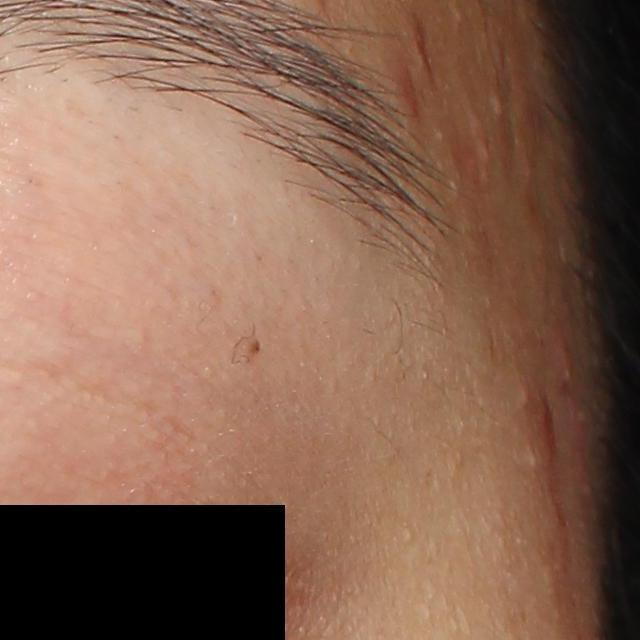nevus: (244, 334, 266, 358)
